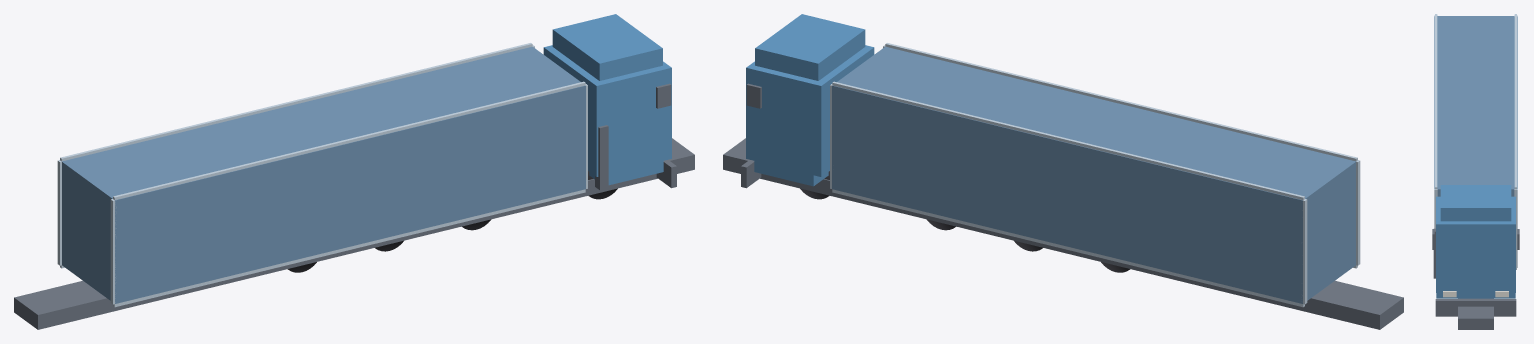
File: truck.glb
3 views of the same model, side by side, from view 1: azimuth 30°, elevation 25°; view 2: azimuth 150°, elevation 25°; view 3: azimuth 270°, elevation 25° (orthographic). The views are drawn at different scales.
Parts seen in each view (by area): view 1: GEO-trailer_body, GEO-cab, GEO-chassis, GEO-cab_roof, GEO-rail_top_-1m16, GEO-rail_top_1m16, GEO-rail_bot_-1m16, GEO-exhaust, GEO-hood, GEO-post_0m25_-1m16, GEO-post_0m25_1m16; view 2: GEO-trailer_body, GEO-cab, GEO-chassis, GEO-cab_roof, GEO-rail_top_-1m16, GEO-rail_top_1m16, GEO-rail_bot_1m16, GEO-hood, GEO-post_0m25_1m16, GEO-post_0m25_-1m16; view 3: GEO-trailer_body, GEO-cab, GEO-cab_roof, GEO-bumper, GEO-chassis, GEO-rail_top_-1m16, GEO-rail_top_1m16, GEO-hood, GEO-post_12m15_1m16, GEO-exhaust, GEO-head-0m95, GEO-head0m95 (+1 smaller).
Boxes of the visible parts, bbox=[...] form: GEO-trailer_body: bbox=[62, 46, 585, 303]; GEO-cab: bbox=[543, 45, 671, 176]; GEO-chassis: bbox=[14, 138, 694, 329]; GEO-cab_roof: bbox=[552, 14, 662, 80]; GEO-rail_top_-1m16: bbox=[113, 81, 585, 200]; GEO-rail_top_1m16: bbox=[60, 43, 532, 161]; GEO-rail_bot_-1m16: bbox=[113, 189, 585, 307]; GEO-exhaust: bbox=[595, 125, 608, 190]; GEO-hood: bbox=[589, 161, 663, 185]; GEO-post_0m25_-1m16: bbox=[110, 199, 116, 304]; GEO-post_0m25_1m16: bbox=[57, 160, 61, 265]; GEO-trailer_body: bbox=[832, 46, 1355, 303]; GEO-cab: bbox=[746, 45, 874, 176]; GEO-chassis: bbox=[723, 138, 1403, 329]; GEO-cab_roof: bbox=[755, 14, 865, 80]; GEO-rail_top_-1m16: bbox=[885, 43, 1357, 161]; GEO-rail_top_1m16: bbox=[832, 81, 1304, 200]; GEO-rail_bot_1m16: bbox=[832, 189, 1304, 307]; GEO-hood: bbox=[754, 161, 828, 186]; GEO-post_0m25_1m16: bbox=[1302, 199, 1307, 304]; GEO-post_0m25_-1m16: bbox=[1356, 160, 1360, 265]; GEO-trailer_body: bbox=[1434, 16, 1517, 196]; GEO-cab: bbox=[1436, 196, 1515, 292]; GEO-cab_roof: bbox=[1440, 185, 1511, 221]; GEO-bumper: bbox=[1435, 299, 1516, 316]; GEO-chassis: bbox=[1458, 298, 1493, 329]; GEO-rail_top_-1m16: bbox=[1435, 14, 1437, 189]; GEO-rail_top_1m16: bbox=[1514, 14, 1516, 189]; GEO-hood: bbox=[1436, 293, 1515, 298]; GEO-post_12m15_1m16: bbox=[1514, 189, 1517, 267]; GEO-exhaust: bbox=[1433, 228, 1435, 278]; GEO-head-0m95: bbox=[1443, 291, 1456, 297]; GEO-head0m95: bbox=[1495, 291, 1508, 297].
Size of the model in its own units: 16.6 by 3.57 by 2.54.
